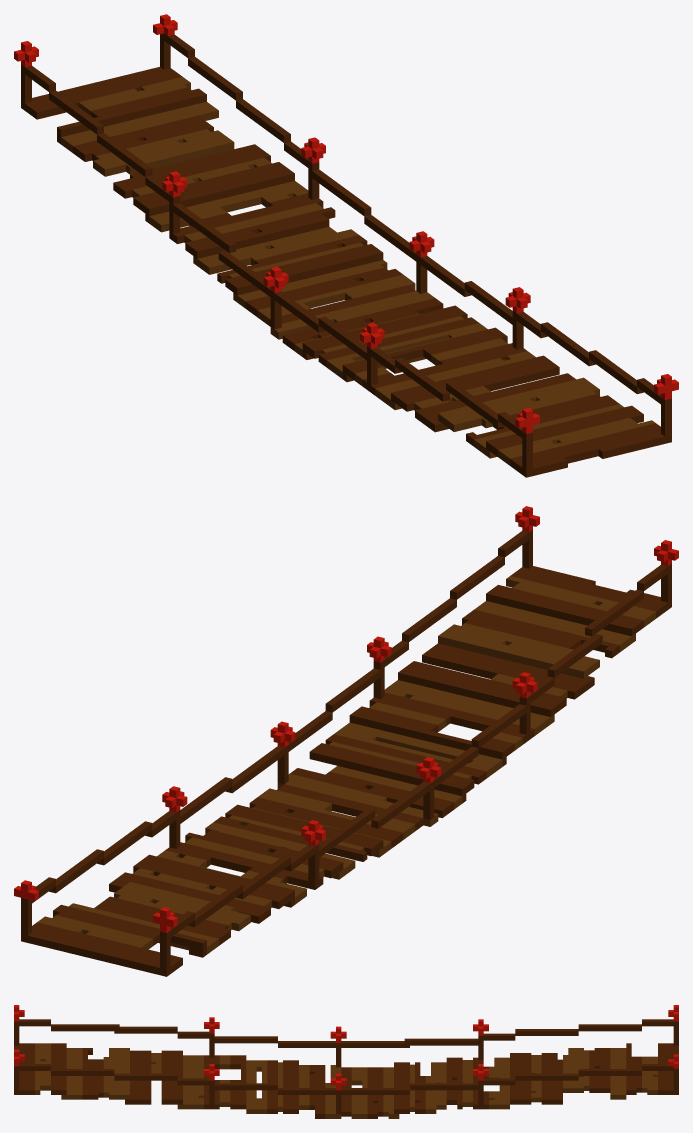
File: Trap.obj
The picture shows the model from 3 angles, top to bottom: view 1: azimuth 30°, elevation 25°; view 2: azimuth 150°, elevation 25°; view 3: azimuth 270°, elevation 25°; orthographic projection. The views are drawn at different scales.
Visible parts, largest first — view 1: Trap; view 2: Trap; view 3: Trap.
Boxes of the visible parts, bbox=[...] form: Trap: bbox=[14, 14, 678, 477]; Trap: bbox=[14, 506, 678, 976]; Trap: bbox=[14, 1005, 678, 1118].
Bounding box in the file's own units: 24 × 14 × 126.
Materials: 1 (1 with a texture image).
